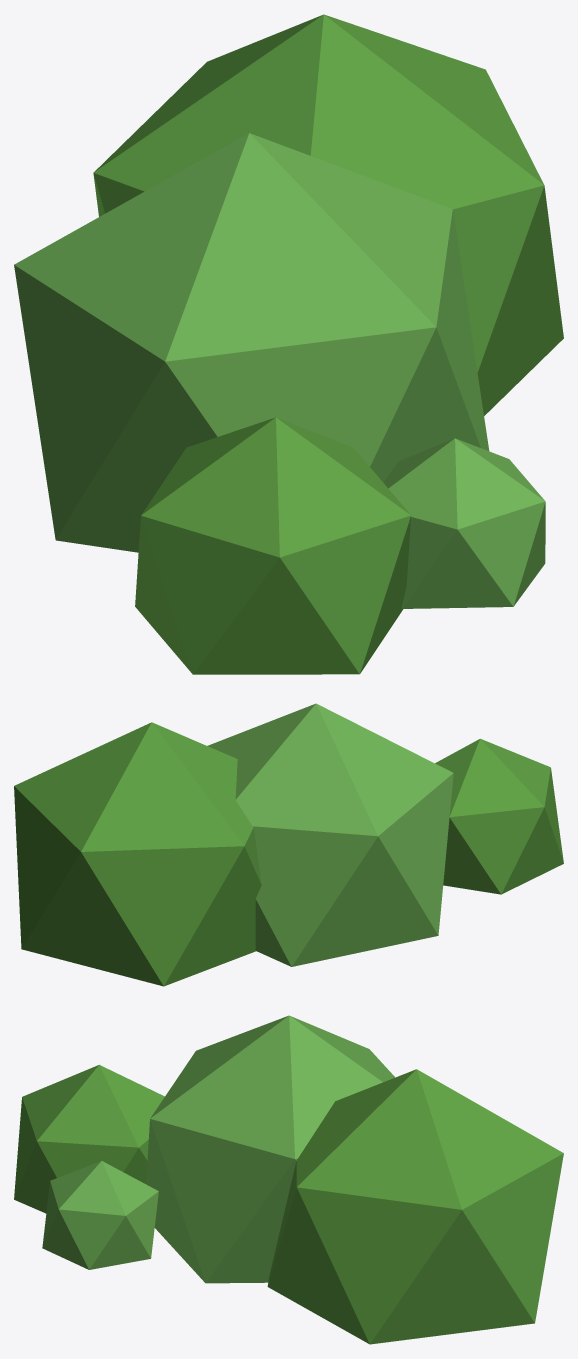
File: bush_large.glb
3 views of the same model, one above another, from view 1: azimuth 30°, elevation 25°; view 2: azimuth 150°, elevation 25°; view 3: azimuth 270°, elevation 25° (orthographic). The views are drawn at different scales.
Visible parts, largest first — view 1: Icosphere.072, Icosphere.067, Icosphere.068, Icosphere.069; view 2: Icosphere.067, Icosphere.072, Icosphere.068; view 3: Icosphere.067, Icosphere.072, Icosphere.068, Icosphere.069.
Boxes of the visible parts, box(x1,y1,x2,y2) form: Icosphere.072: box(14, 133, 489, 552); Icosphere.067: box(93, 14, 563, 415); Icosphere.068: box(135, 417, 411, 674); Icosphere.069: box(383, 438, 545, 608); Icosphere.067: box(14, 722, 261, 986); Icosphere.072: box(207, 703, 453, 966); Icosphere.068: box(435, 738, 563, 894); Icosphere.067: box(267, 1069, 563, 1344); Icosphere.072: box(146, 1015, 394, 1283); Icosphere.068: box(14, 1064, 164, 1213); Icosphere.069: box(42, 1161, 158, 1269).
Bounding box in the file's own units: 5.06 × 2.71 × 6.18.
